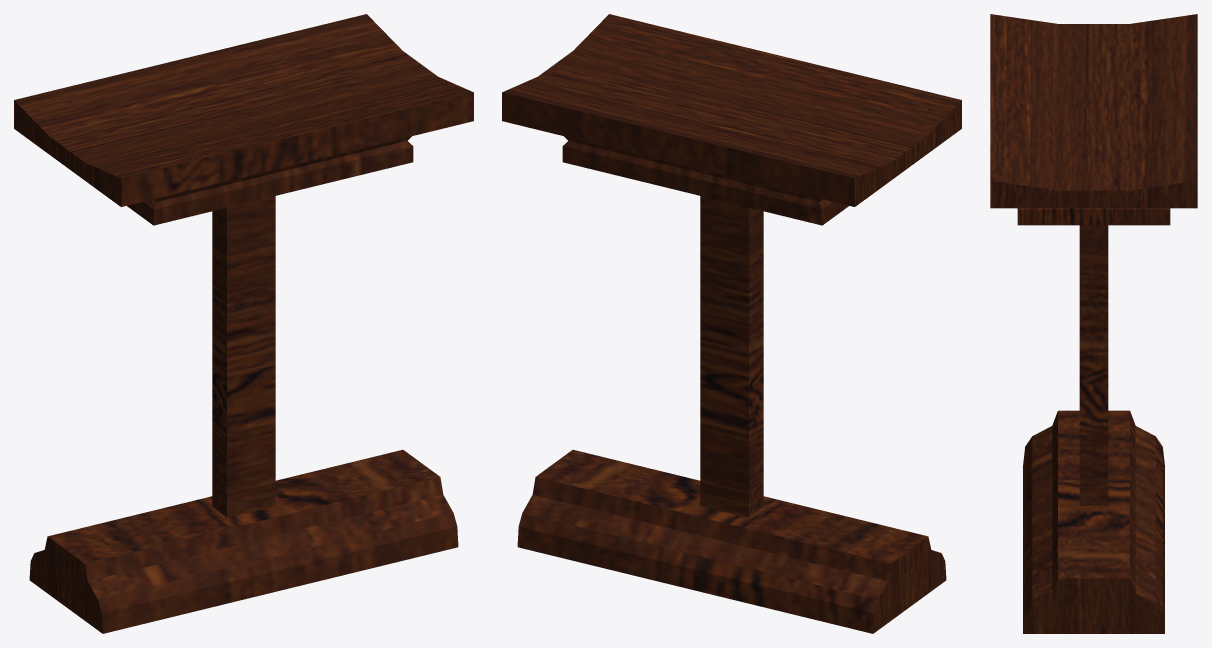
The model's file is stick_stand.fbx.
The picture shows the model from 3 angles, left to right: view 1: azimuth 30°, elevation 25°; view 2: azimuth 150°, elevation 25°; view 3: azimuth 270°, elevation 25°; orthographic projection. The views are drawn at different scales.
Parts seen in each view (by area): view 1: stick_stand; view 2: stick_stand; view 3: stick_stand.
Part boxes in pixels (x1,y1,x2,y2): stick_stand: (14, 14, 473, 633); stick_stand: (502, 14, 961, 633); stick_stand: (990, 14, 1197, 633).
Size of the model in its own units: 42.5 by 53.4 by 22.18.
